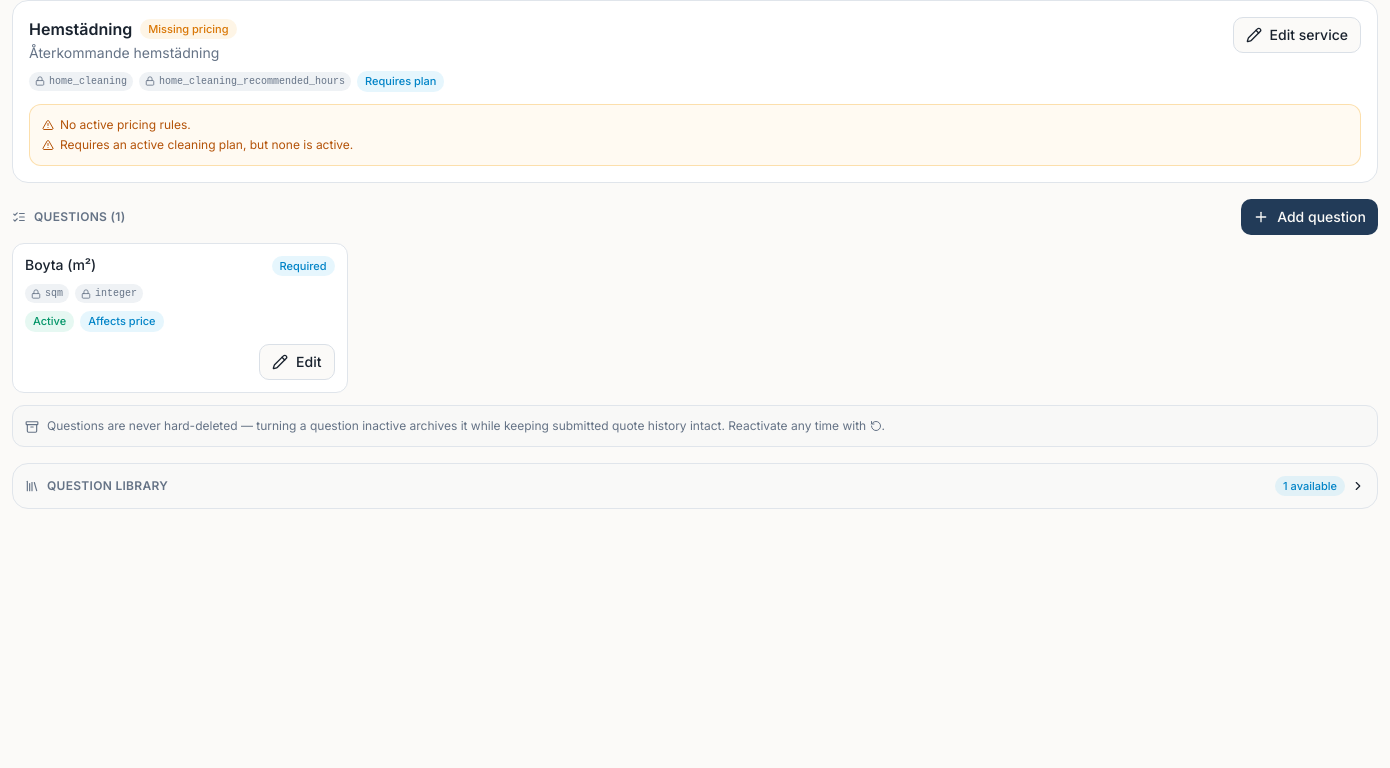
ServicesFieldsEditor — GPM-CALC-LIBRARY-3 question library panel › lists activatable library questions and filters out keys already on the service + inactive items
Click the button with test id "question-library-toggle" at (108, 485), box [25,476,1365,496]
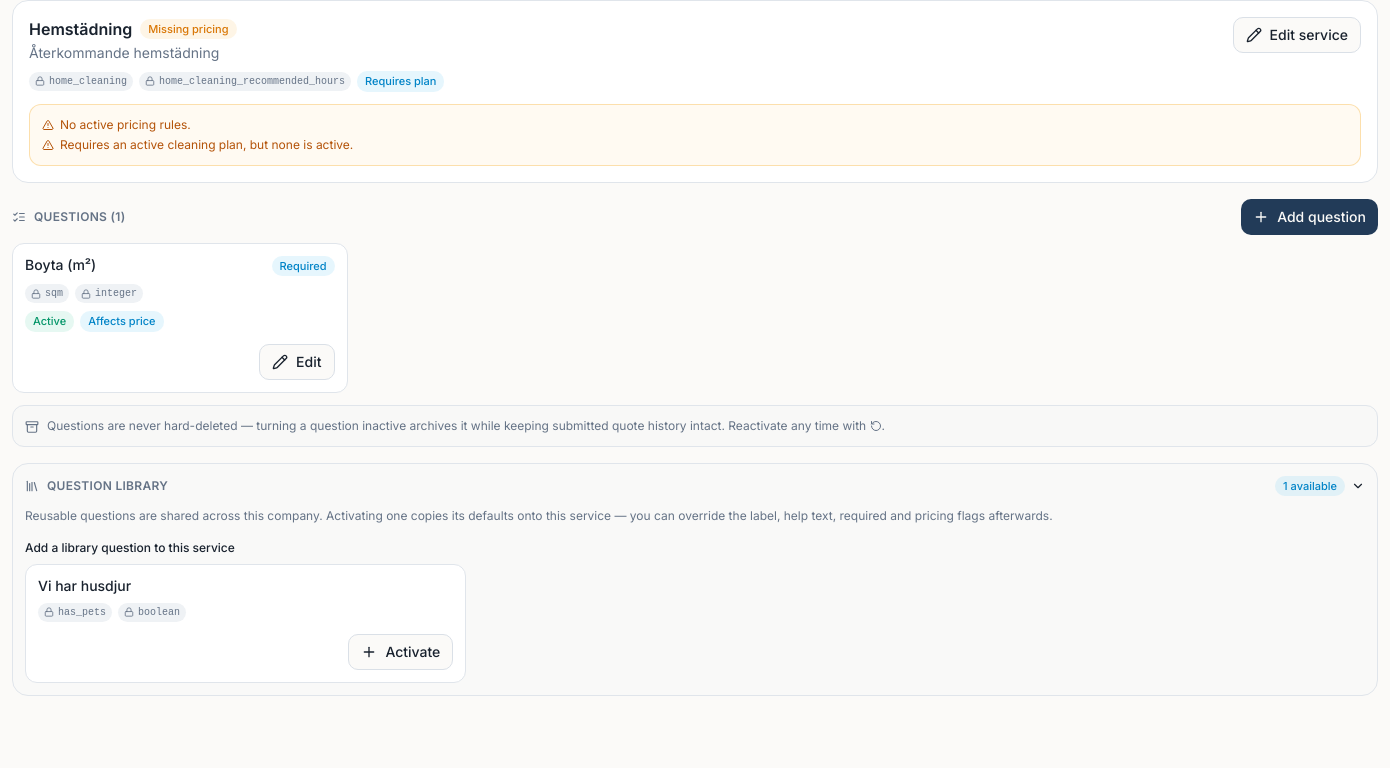
Result: the element with test id "question-library-item-has_pets" is shown at [25,564,466,682]
